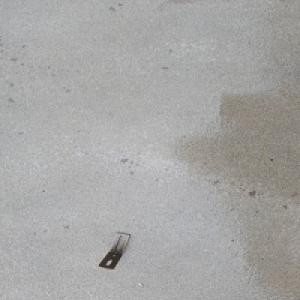MetalPart: (96, 232, 131, 270)
